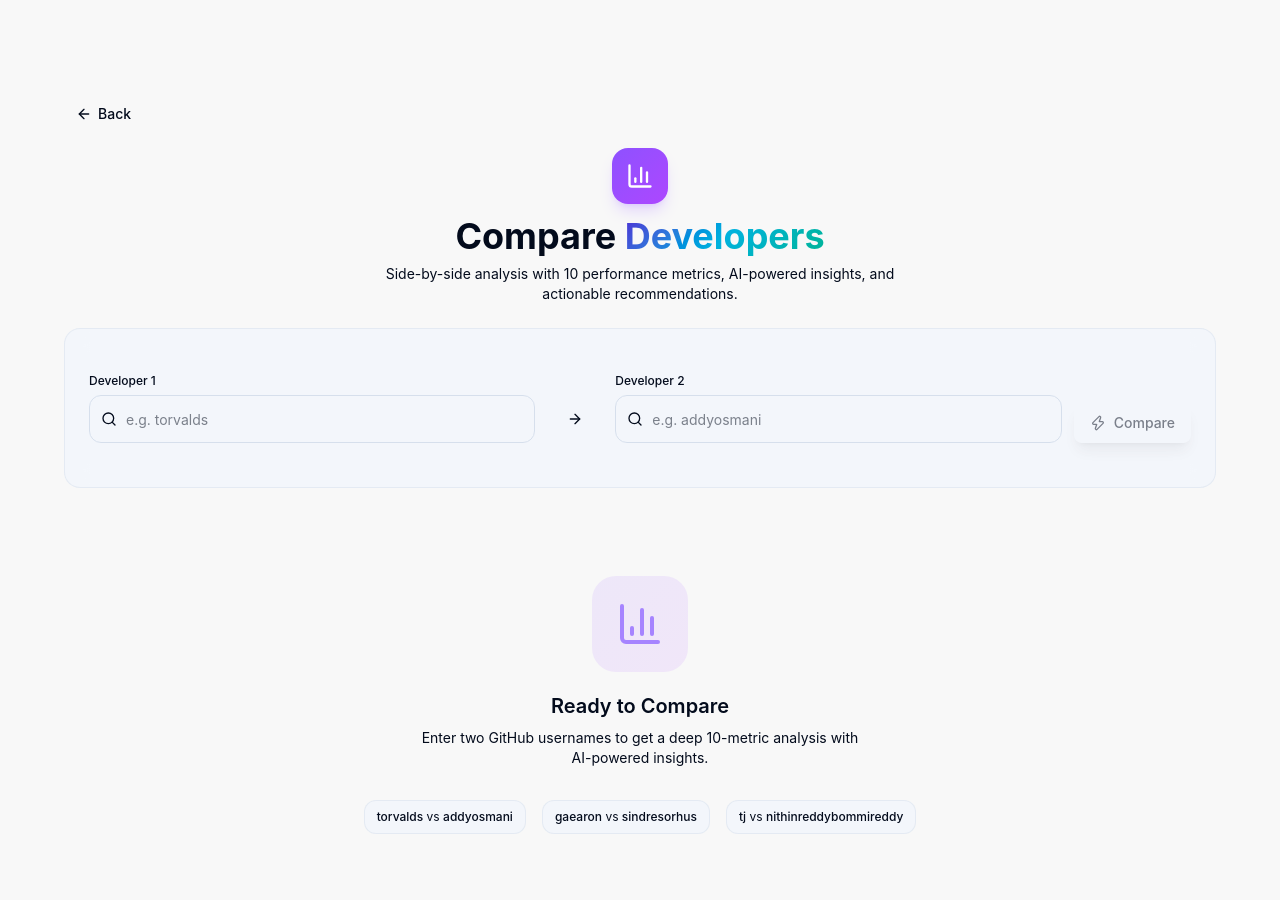
it: ComparePage › renders both metric values with equal contrast — loser value never dimmed, leader shown via badge
The width and height of the screenshot is (1280, 900).
Type "alice" into the field with placeholder "e.g. torvalds".
click(312, 419); type("alice")  # box x1=89 y1=395 x2=535 y2=443
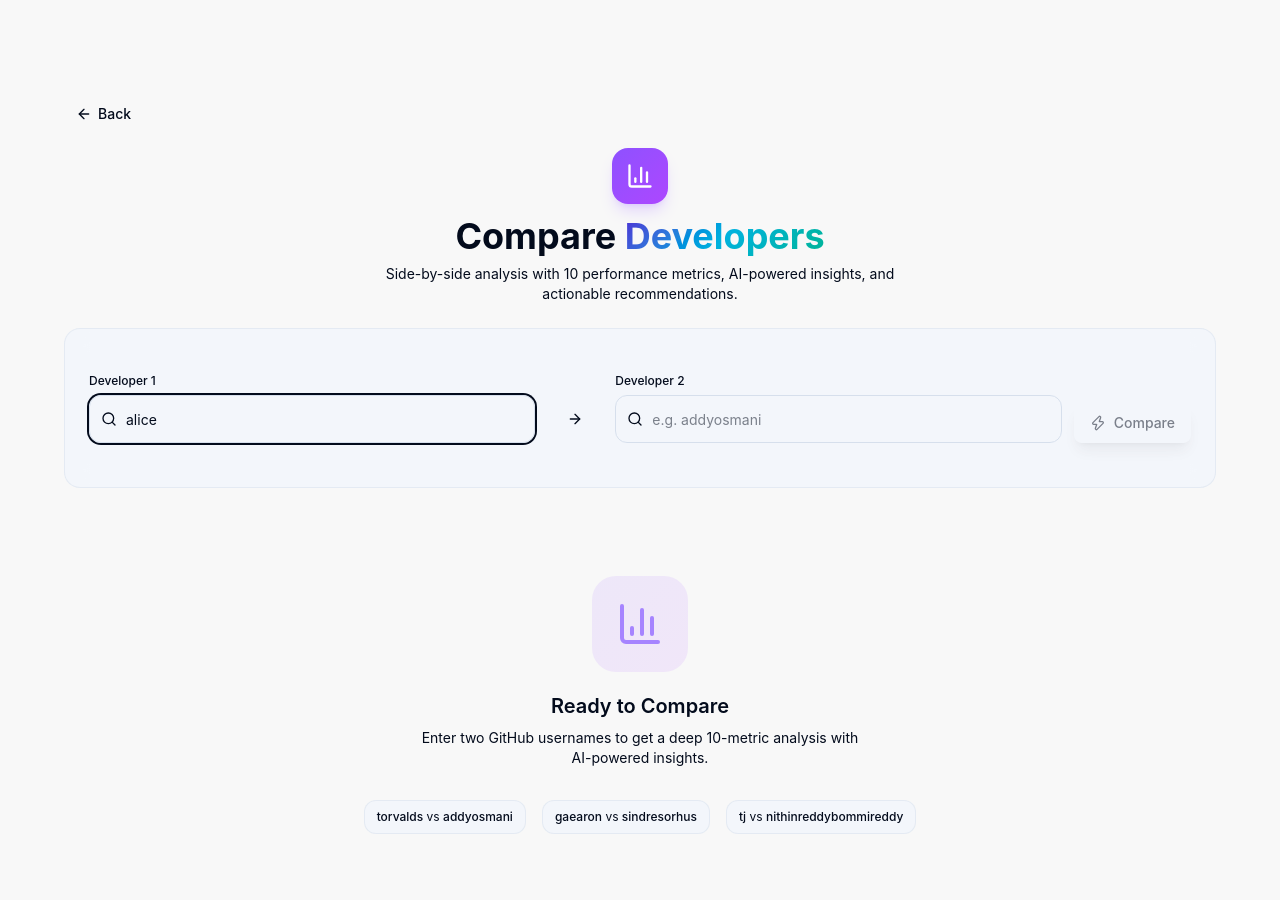
Type "bob" into the field with placeholder "e.g. addyosmani".
click(839, 419); type("bob")  # box x1=615 y1=395 x2=1062 y2=443
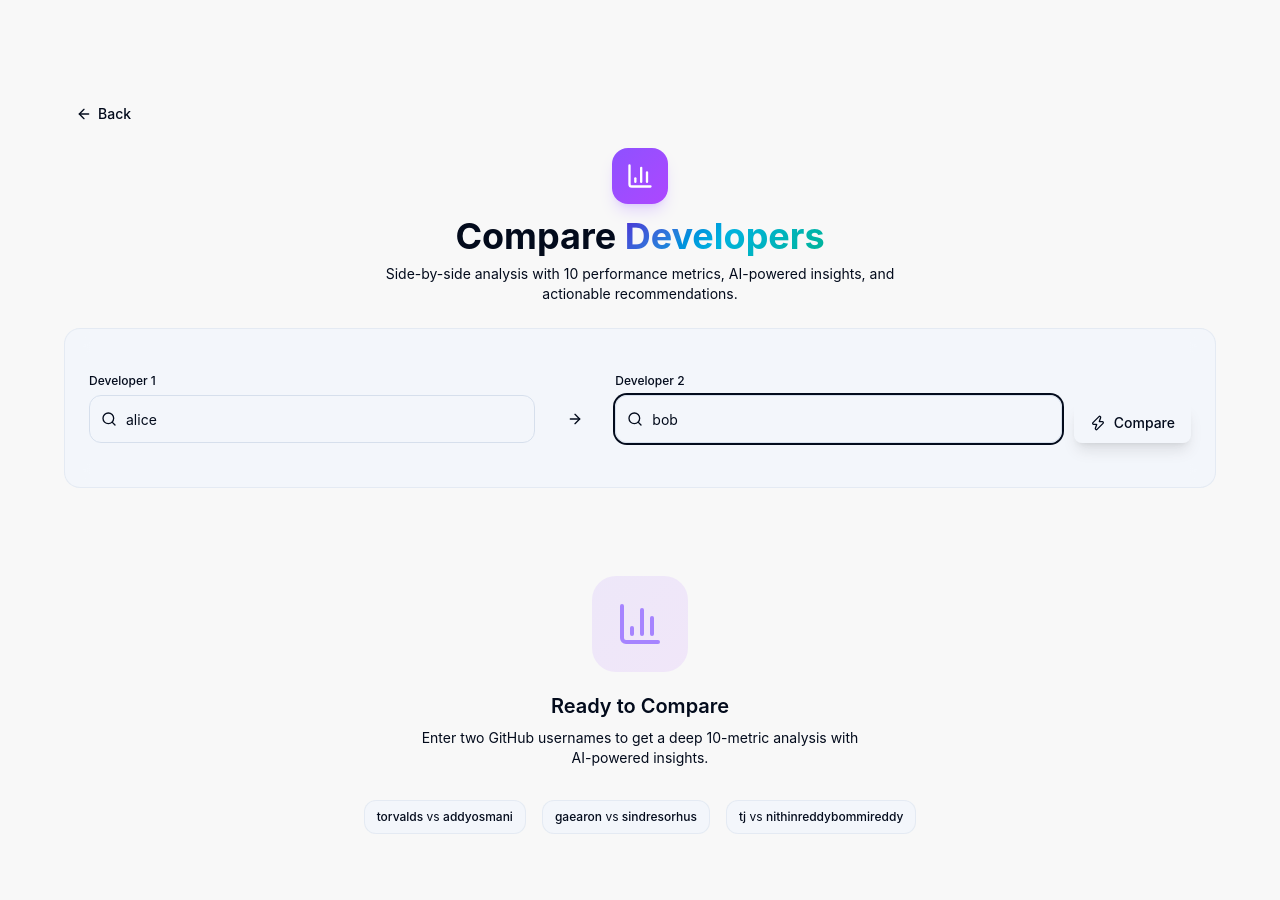
Click the button "Compare".
click(1132, 423)  # box x1=1074 y1=403 x2=1191 y2=443
(page scrolled)
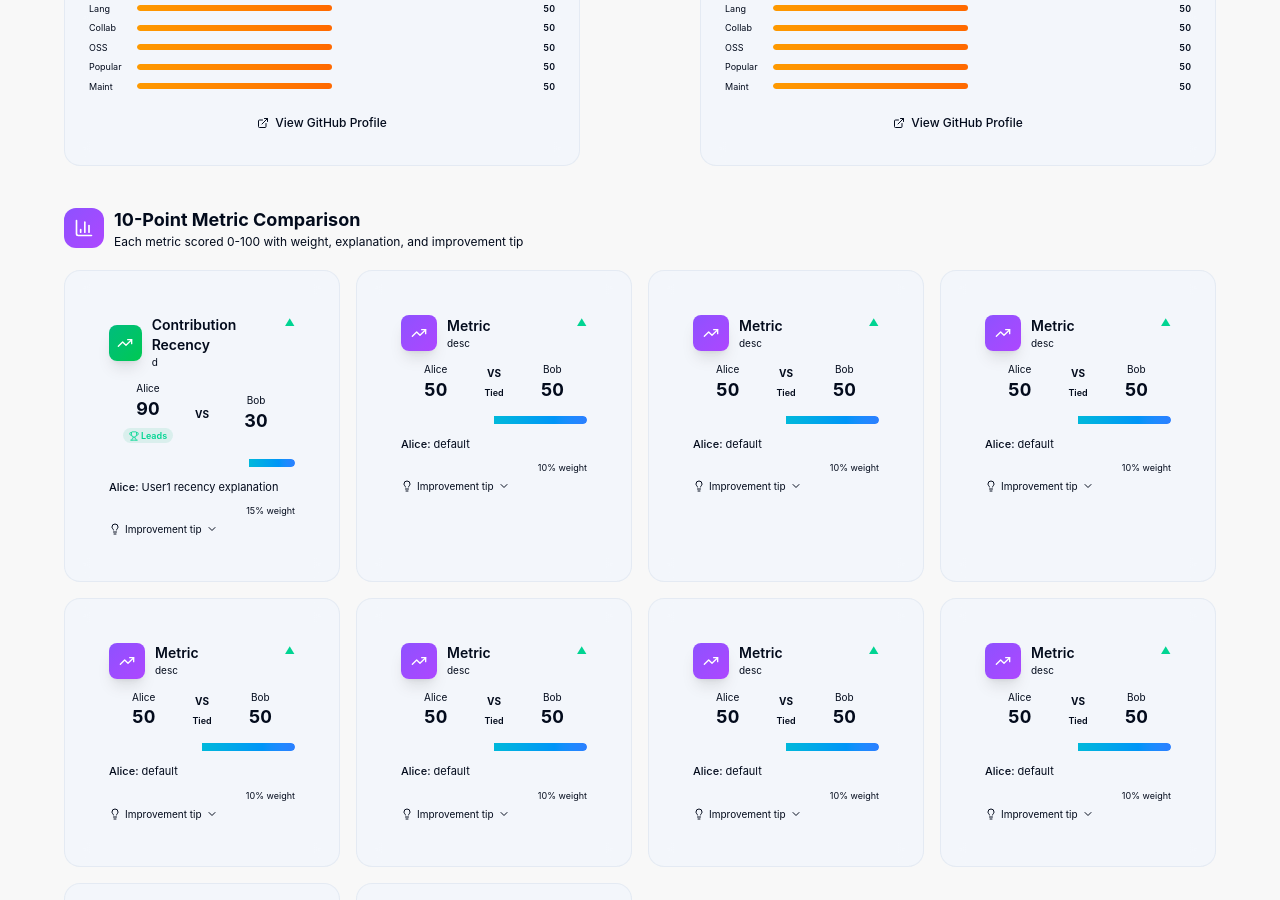
Now the text "Leads" is shown once, box x1=123 y1=428 x2=173 y2=443
Now the text "Tied" is shown 9 times
